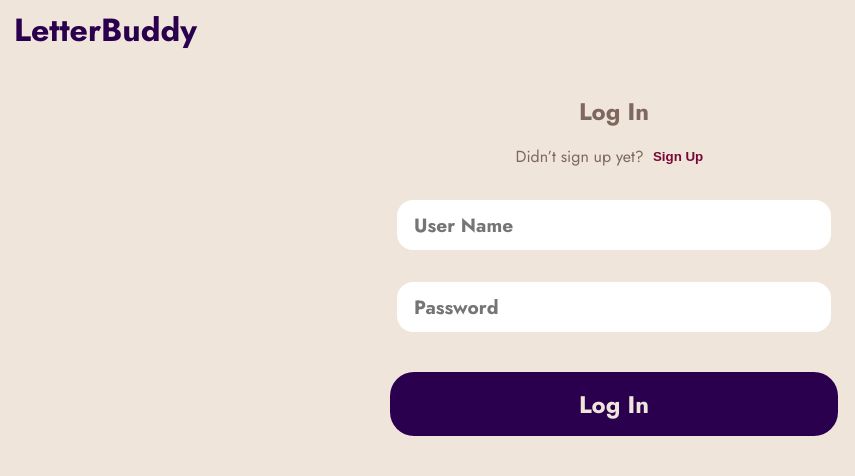
Login Flow › should show error for invalid credentials
Step 1. Type "wronguser" into the field with placeholder "User Name" → coordinates (614, 225), box x1=397 y1=200 x2=831 y2=250
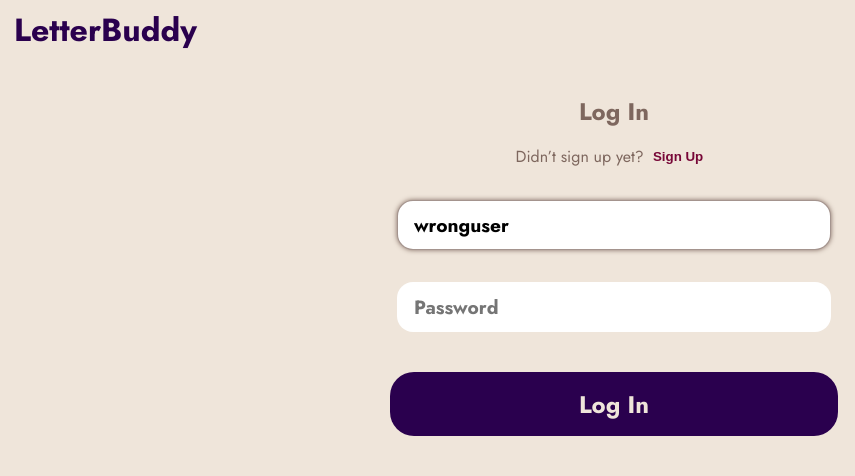
Step 2. Type "wrongpass123" into the password field with placeholder "Password" → coordinates (614, 307), box x1=397 y1=282 x2=831 y2=332
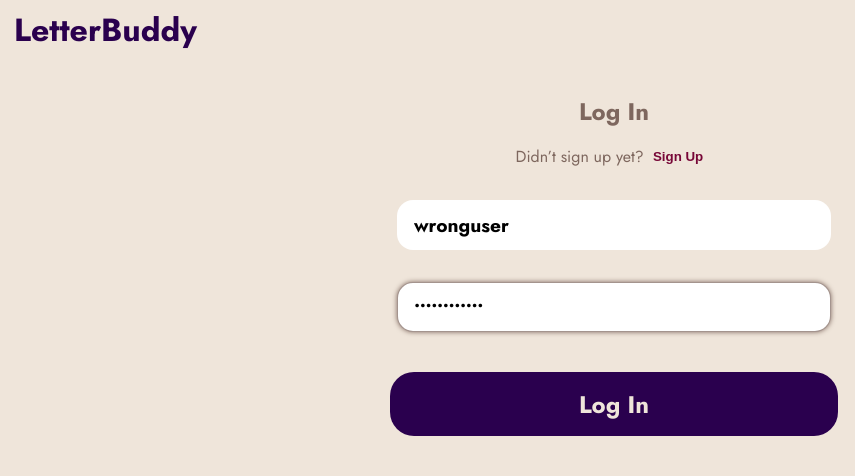
Step 3. Click the submit button → coordinates (614, 404), box x1=390 y1=372 x2=838 y2=436
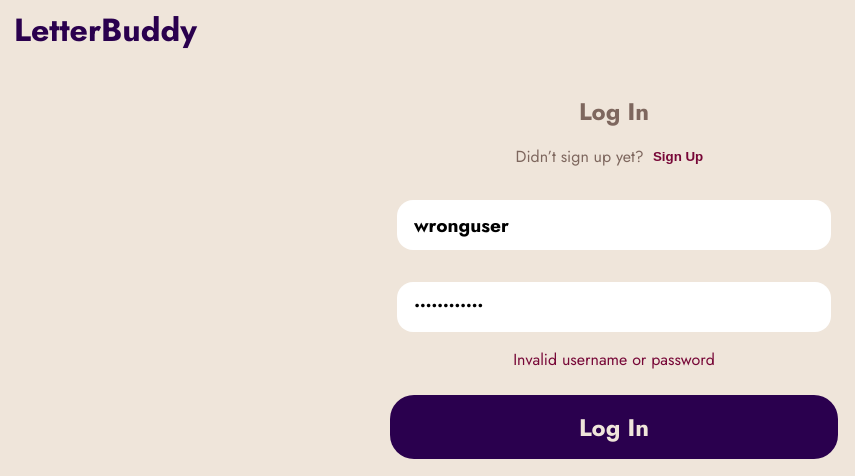
Expected: the text "Invalid username or password" is shown, x1=513 y1=348 x2=715 y2=371
